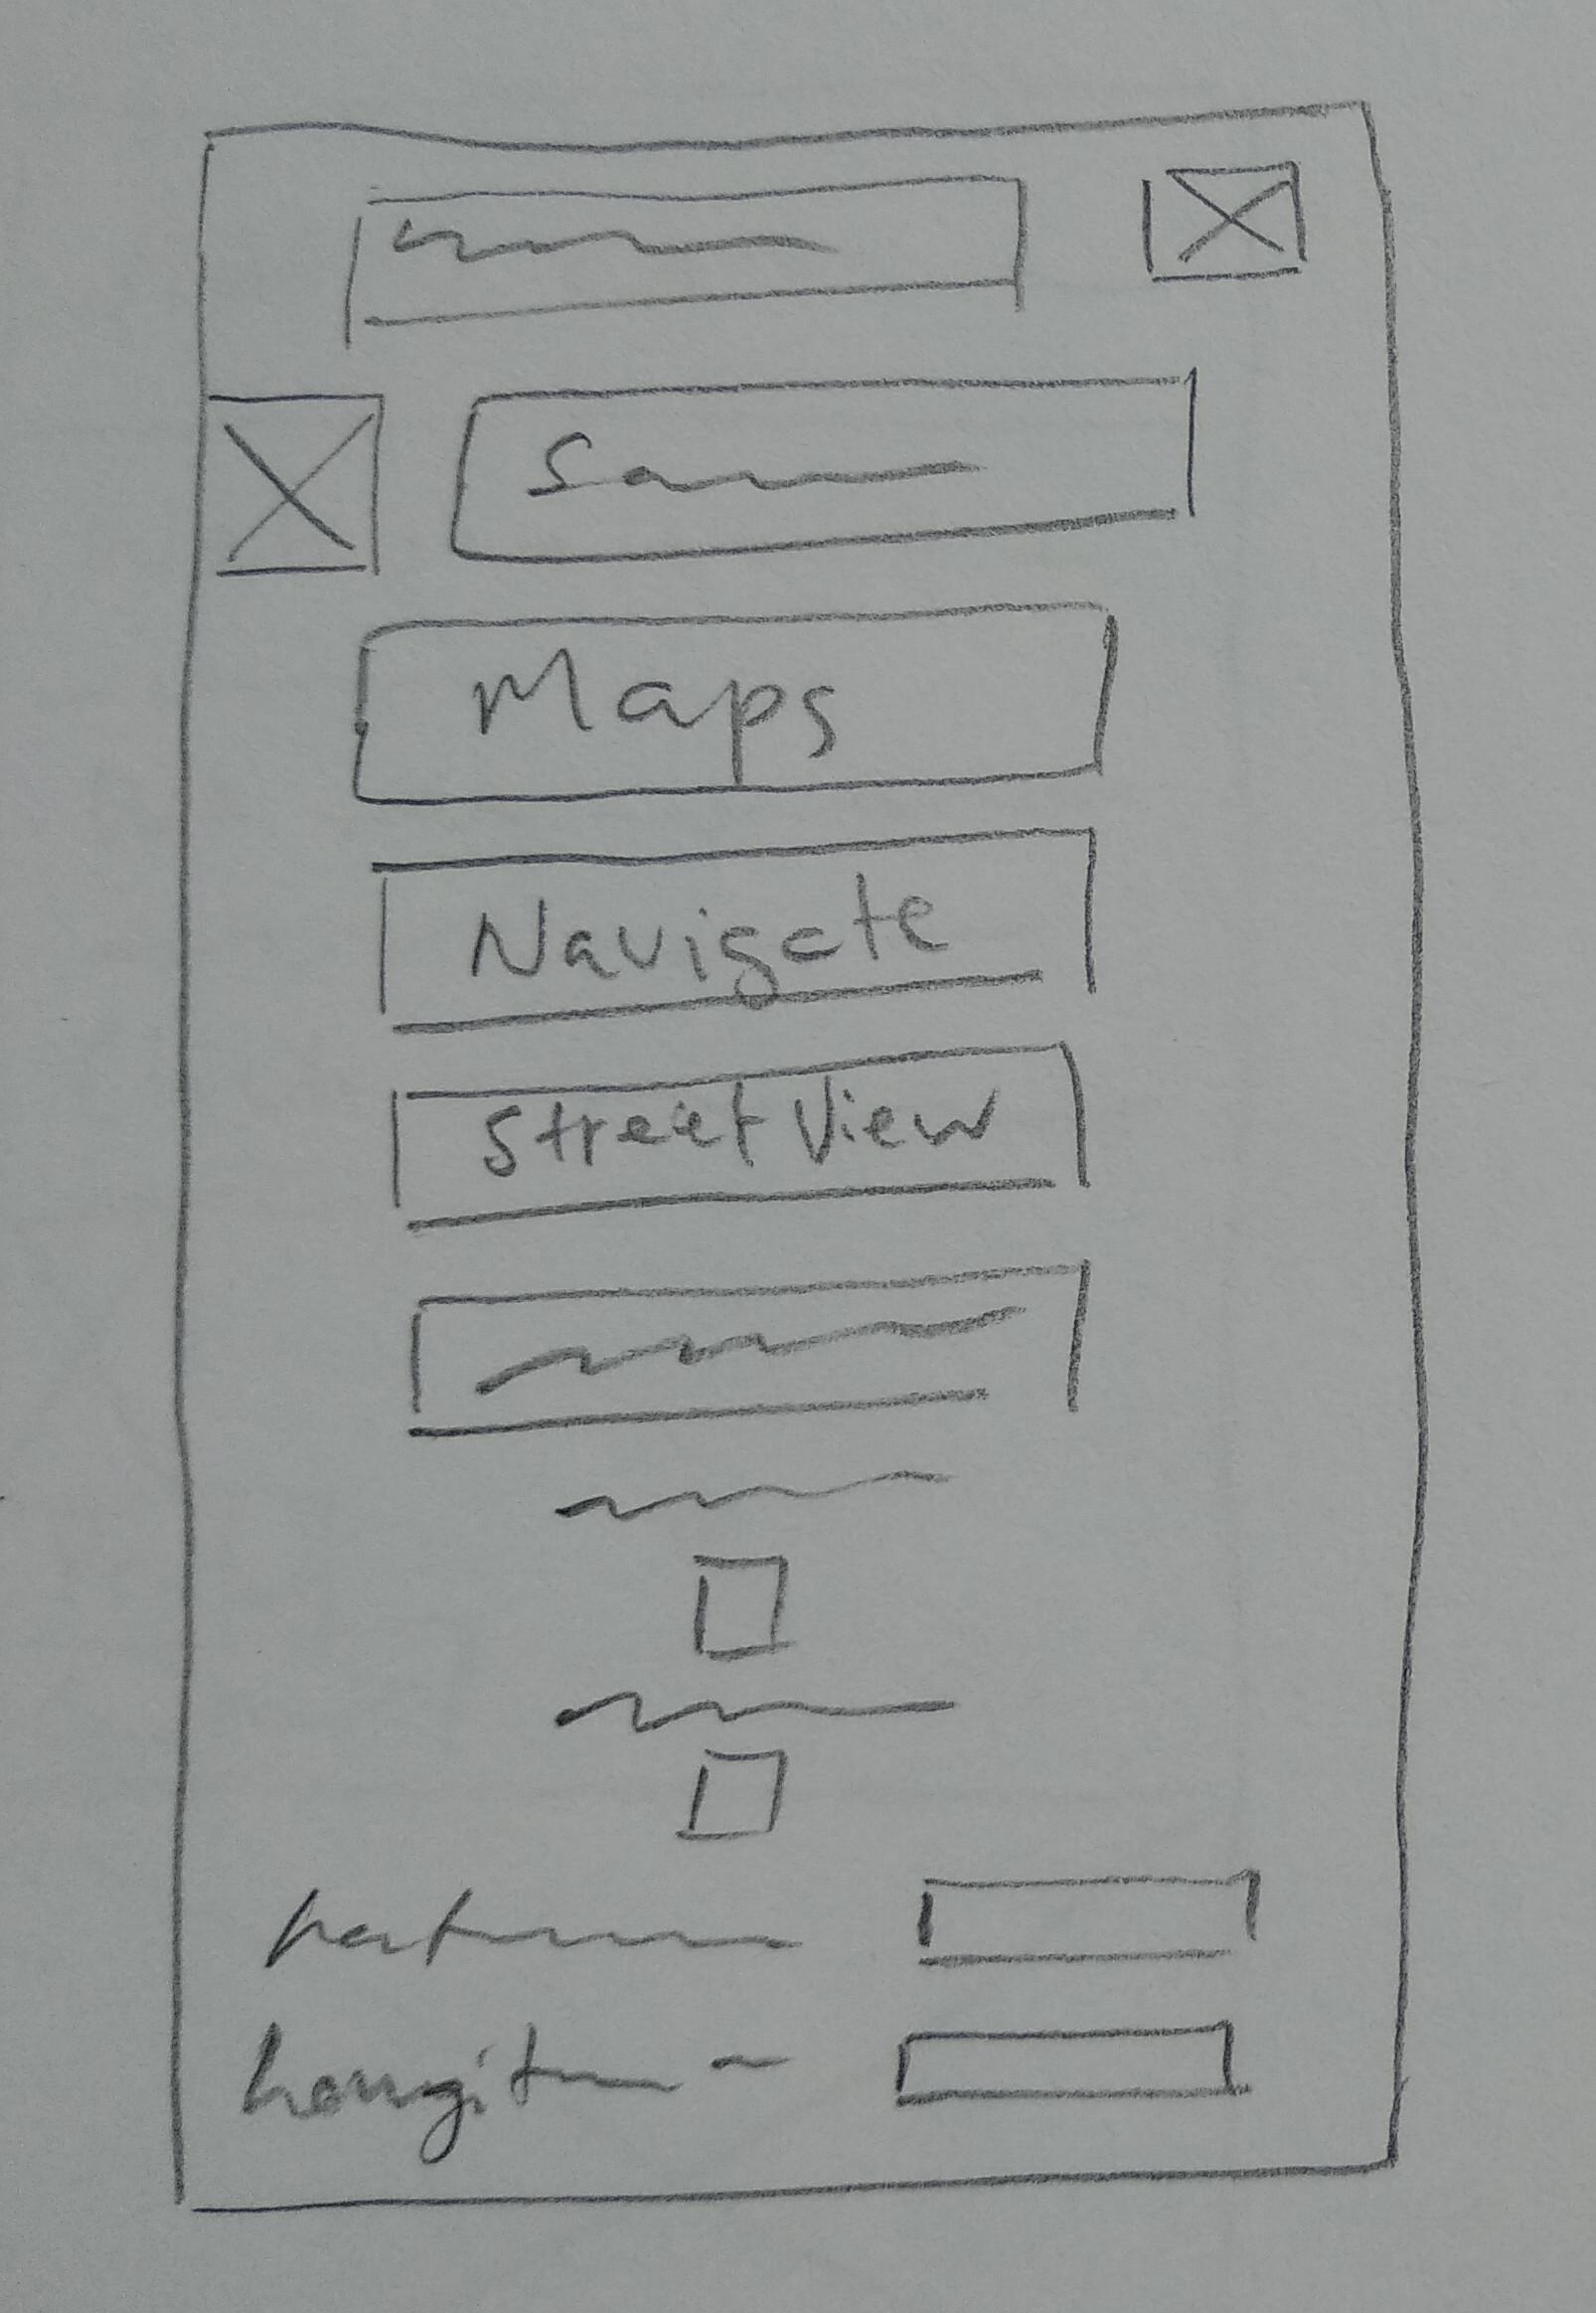Button: (352, 598, 1118, 805), (369, 828, 1097, 1035), (388, 1039, 1086, 1236), (406, 1258, 1088, 1439)
CheckBox: (691, 1548, 793, 1664), (677, 1744, 789, 1842)
Image: (202, 390, 387, 578), (1139, 162, 1308, 283)
Label: (236, 2023, 796, 2167), (260, 1884, 803, 1976), (550, 1462, 967, 1536), (552, 1687, 956, 1735)
Screen: (163, 98, 1427, 2213)
TextBox: (450, 367, 1199, 564), (345, 174, 1027, 330), (905, 1861, 1267, 1970), (882, 2016, 1250, 2116)
